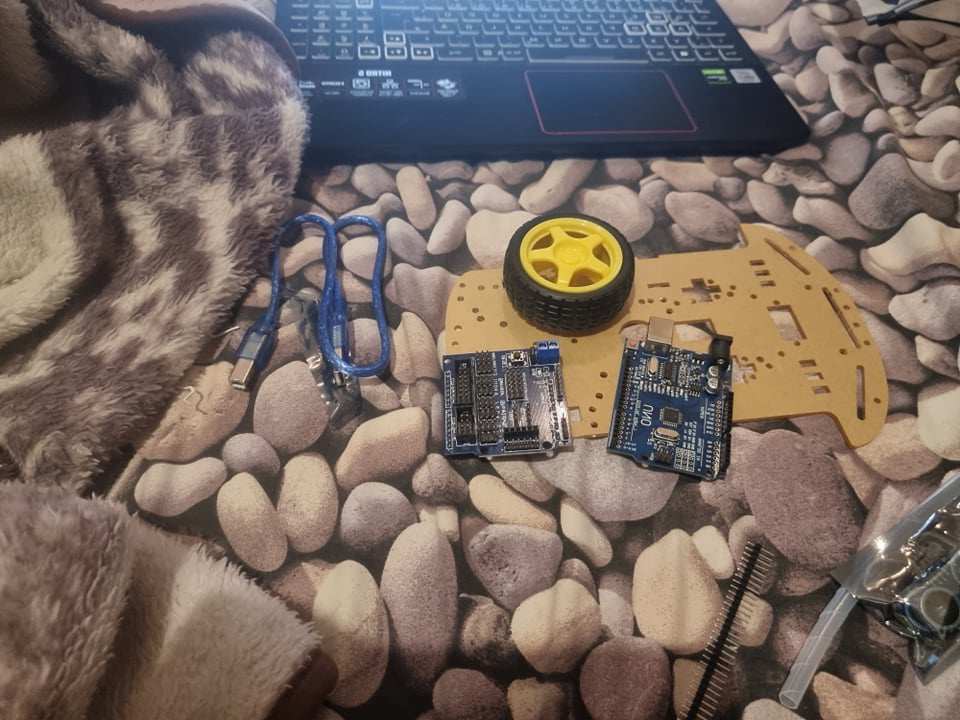5V EXPANSION: (441, 342, 573, 458)
SENSOR: (900, 552, 959, 648)
UNO R3: (608, 316, 734, 484)
